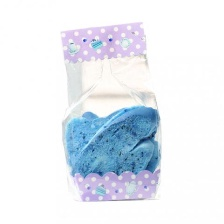snack: (50, 15, 171, 207)
